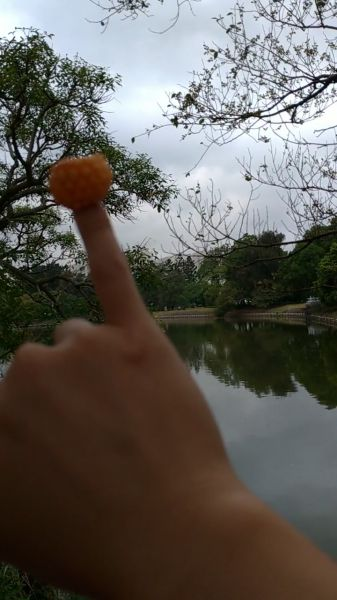eggs: (47, 155, 116, 207)
